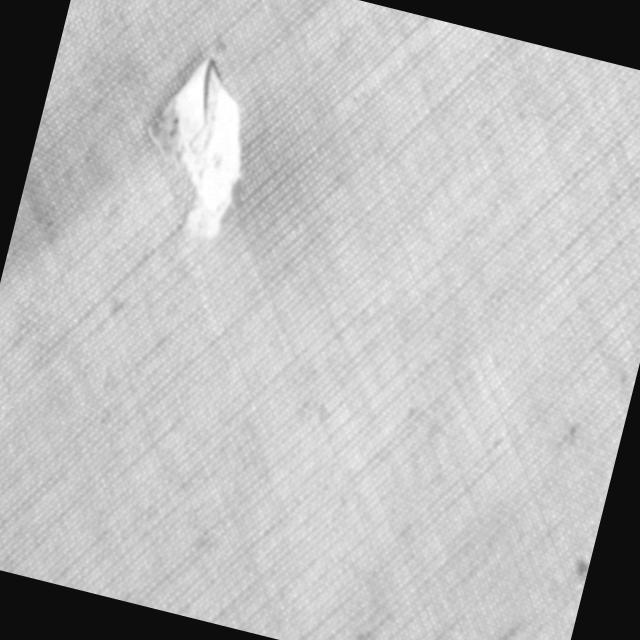objects: (122, 41, 270, 244)
